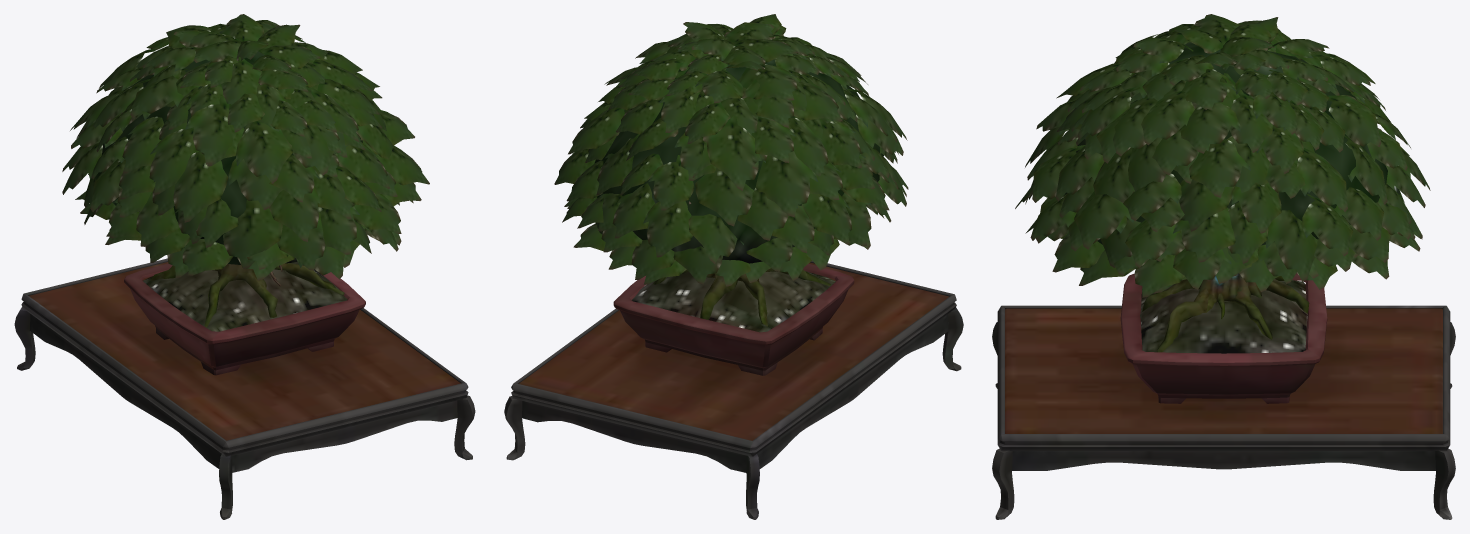
File: SM_Bonsai_ed9877.glb
3 views of the same model, side by side, from view 1: azimuth 30°, elevation 25°; view 2: azimuth 150°, elevation 25°; view 3: azimuth 270°, elevation 25° (orthographic). The views are drawn at different scales.
Bounding box in the file's own units: 0.5055 × 0.615 × 0.6158.
1 material, 1 textured.
